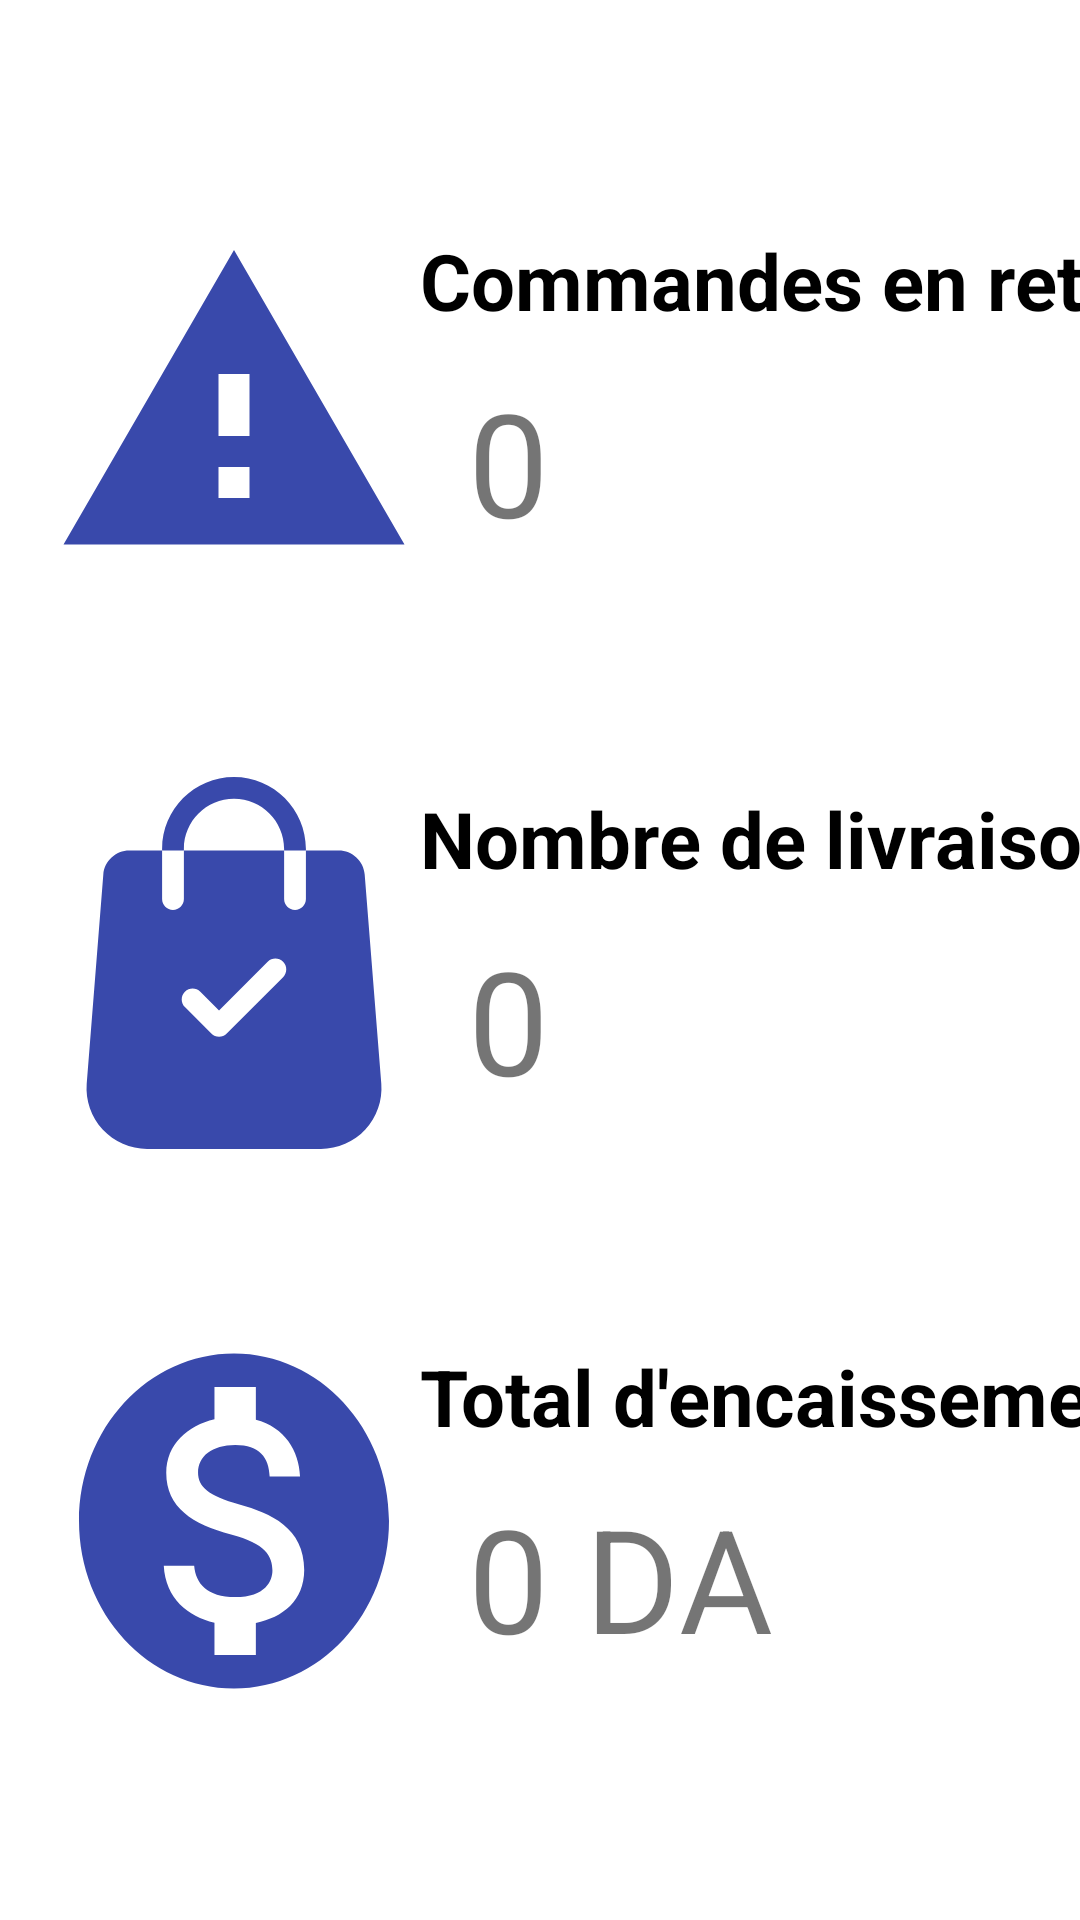

Where icons sit on this 1080x1920 app screen, as [x1, y1, x2, y2]:
warning: [63, 250, 405, 545]
